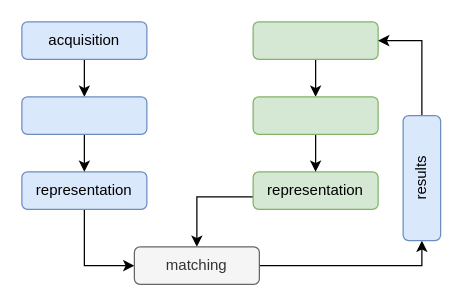
This 463x306 diagram has some shape labels left out. Here are the shapes that lost their labels. From the top down, the box of each, then its label:
(252, 21, 378, 59): user
(21, 96, 147, 134): file organization
(252, 96, 378, 134): query
